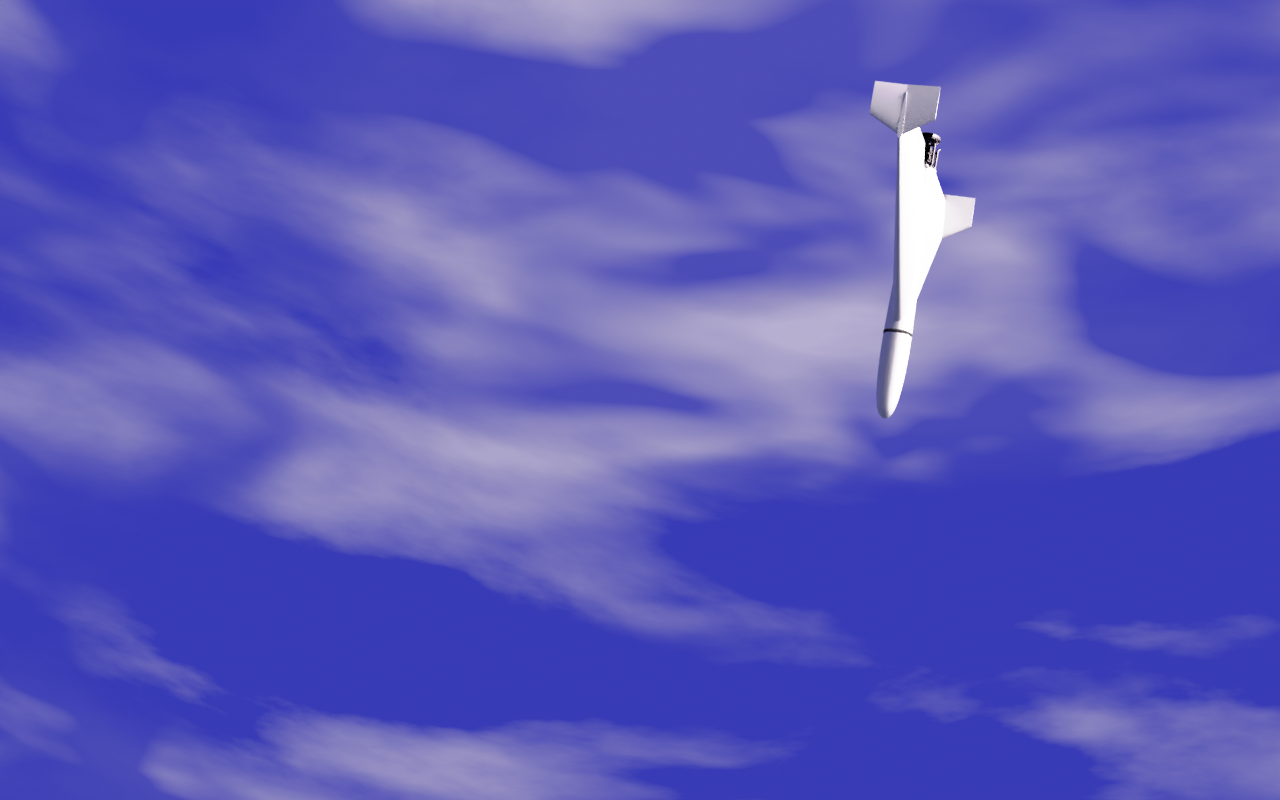shahed: (870, 81, 978, 420)
